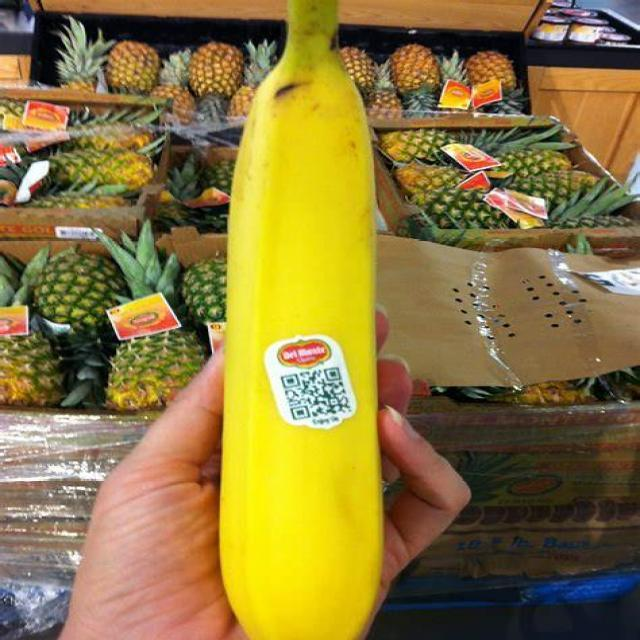Banana: (218, 0, 394, 640)
